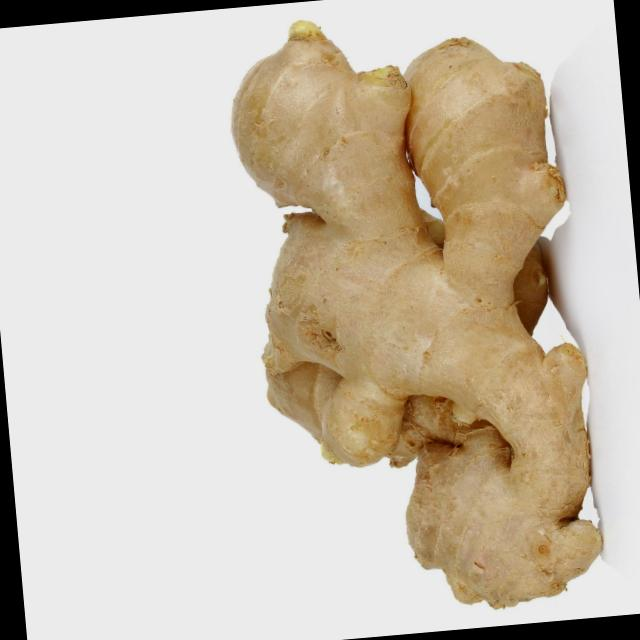ginger-root: (214, 0, 623, 640)
